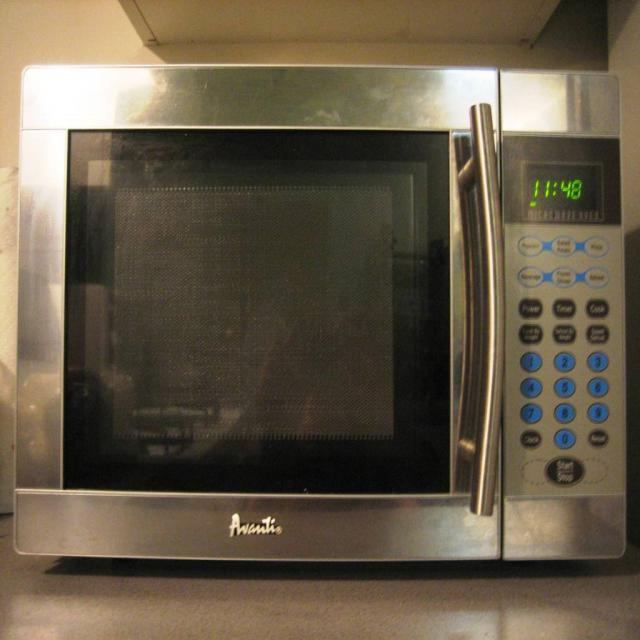microwave oven: (12, 62, 626, 561)
